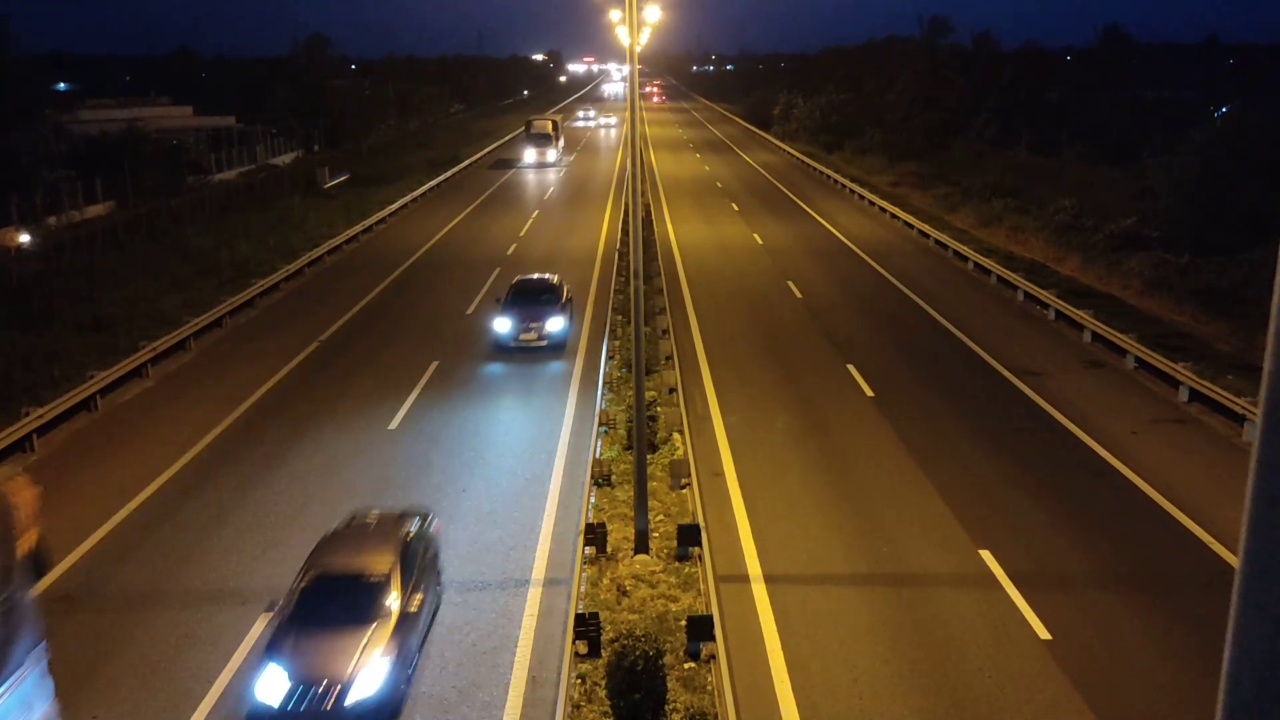car: (235, 503, 445, 717), (488, 273, 574, 353)
